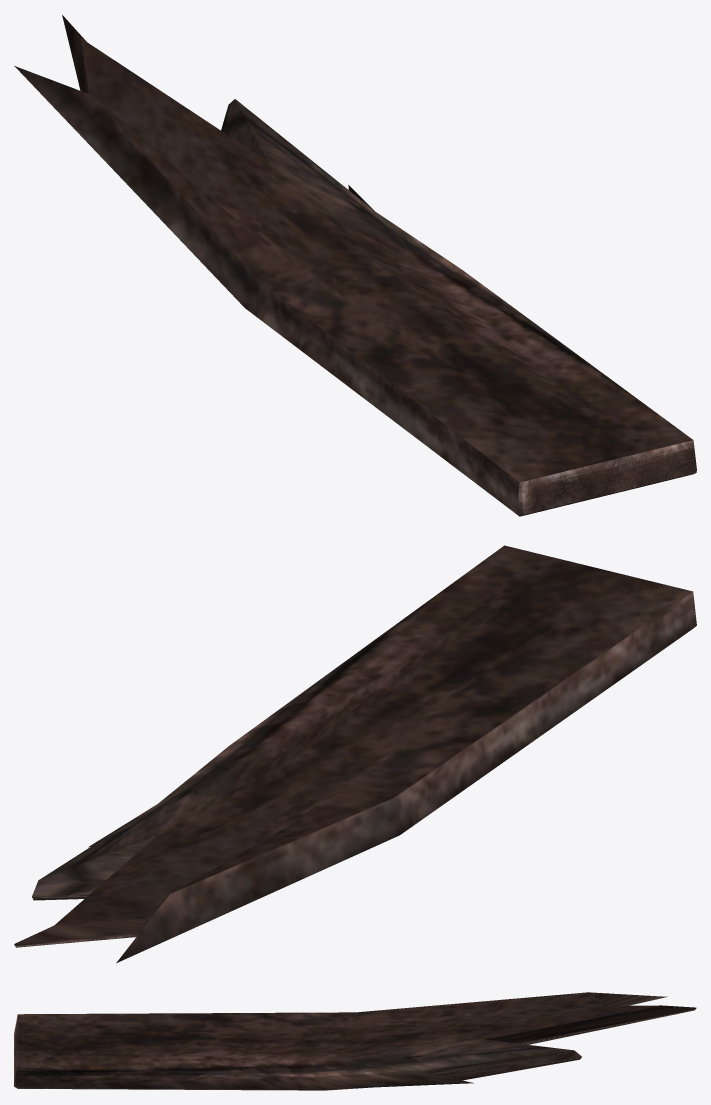
Rendered from wooden_board03.dae.
3 views of the same model, one above another, from view 1: azimuth 30°, elevation 25°; view 2: azimuth 150°, elevation 25°; view 3: azimuth 270°, elevation 25° (orthographic). The views are drawn at different scales.
Parts seen in each view (by area): view 1: pCube2; view 2: pCube2; view 3: pCube2.
Boxes of the visible parts, box(x1,y1,x2,y2) form: pCube2: box(14, 15, 696, 516); pCube2: box(14, 545, 696, 963); pCube2: box(14, 992, 696, 1090).
Bounding box in the file's own units: 0.2664 × 0.1138 × 1.28.
